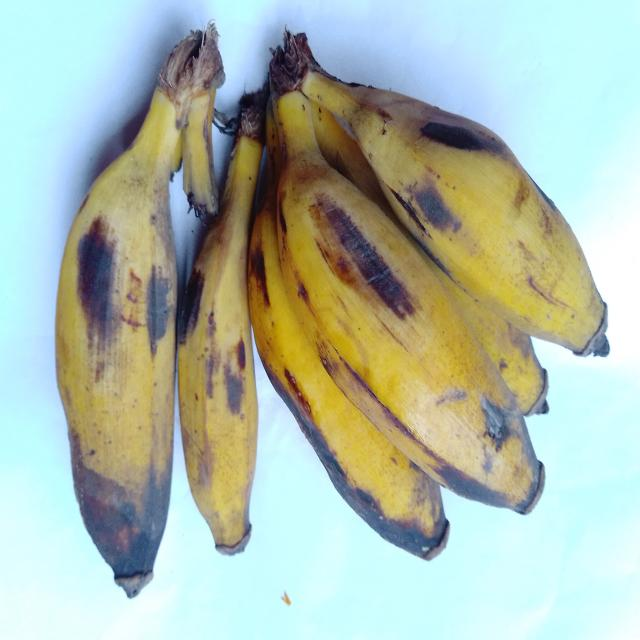banana: (270, 50, 543, 512), (285, 32, 608, 355), (249, 112, 449, 559), (56, 32, 208, 597), (178, 88, 267, 554), (425, 256, 548, 416), (425, 257, 548, 416), (182, 26, 225, 224)
